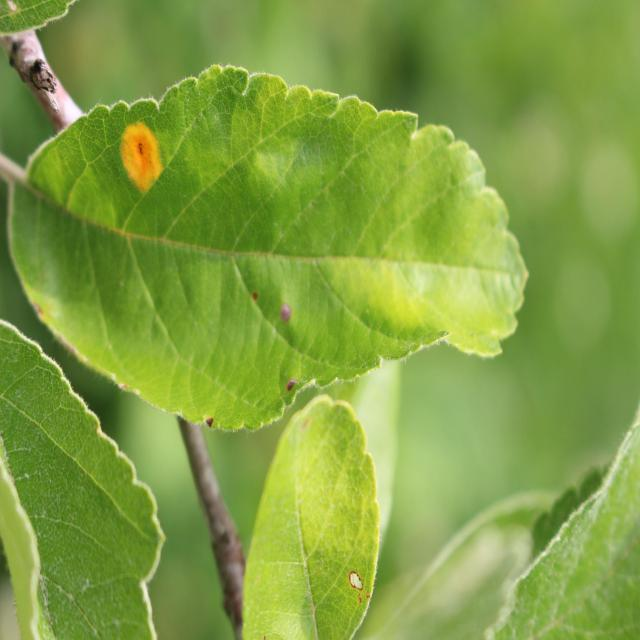Rust: (110, 91, 170, 203)
